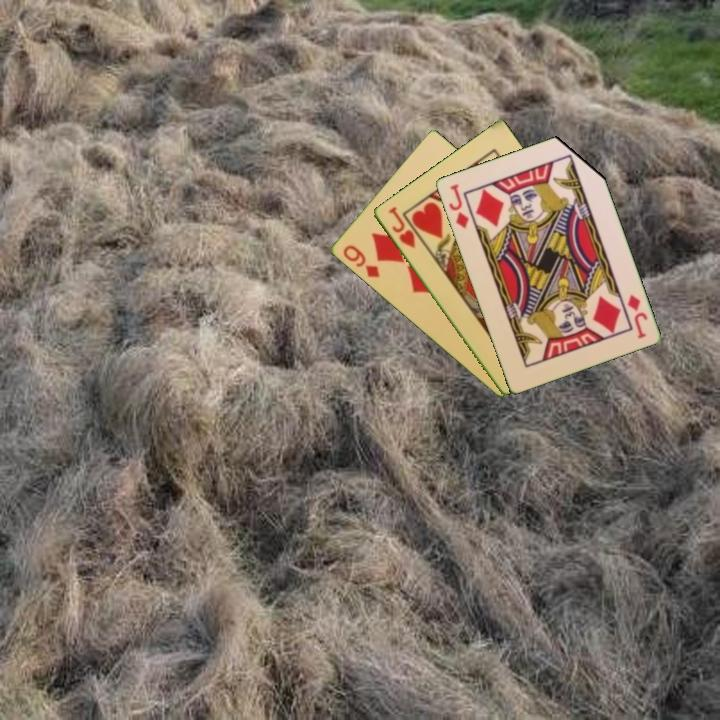9d: (339, 241, 382, 281)
Jd: (445, 180, 472, 231), (623, 291, 650, 341)
Jh: (385, 203, 418, 251)
